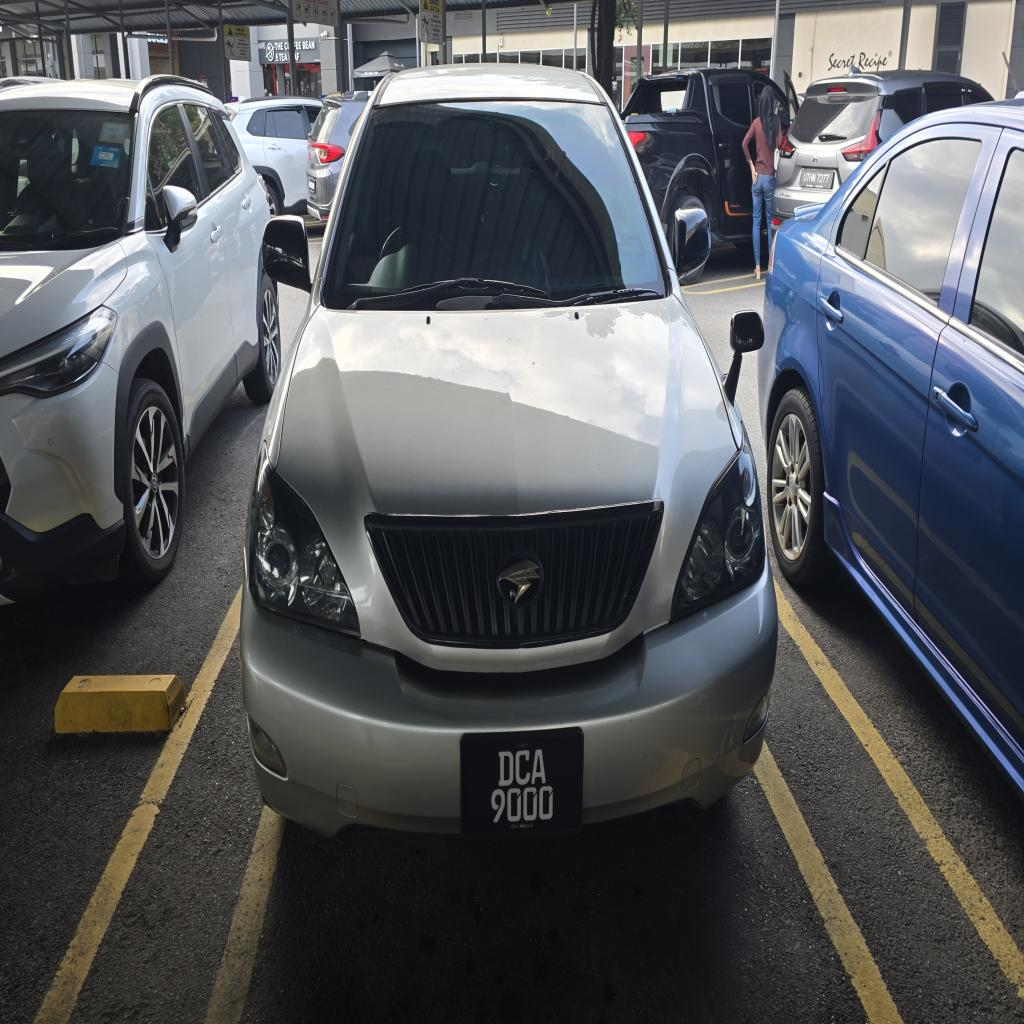car: (241, 66, 776, 834)
car plate: (462, 728, 583, 834)
